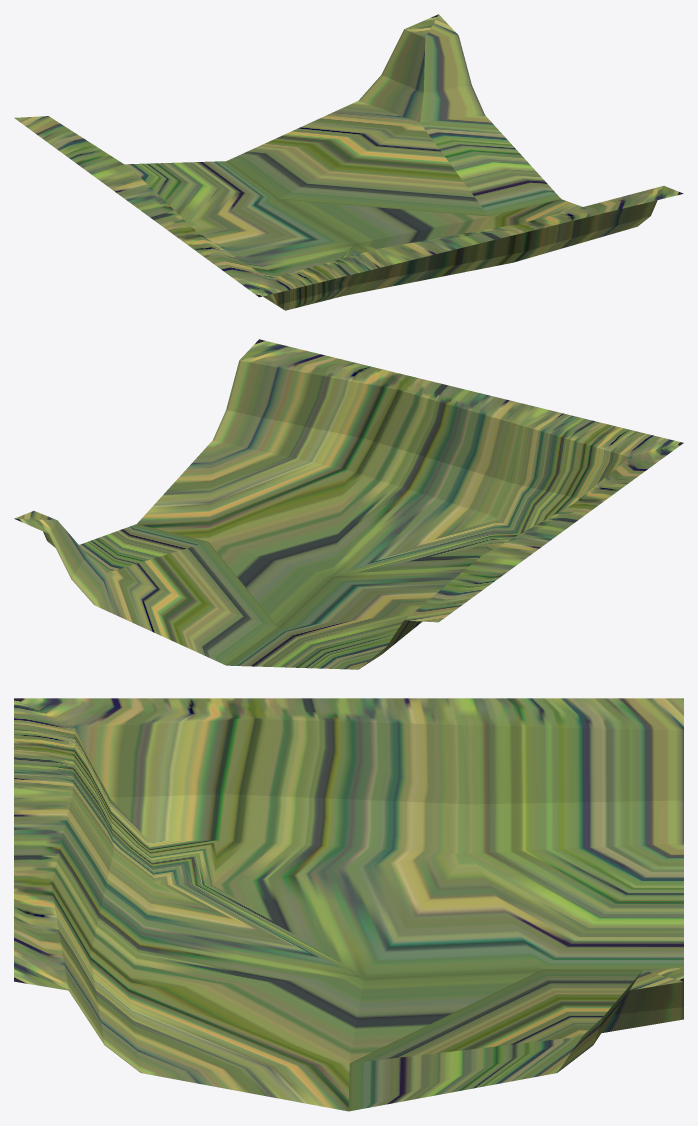
File: Mesh_WaterTileRiverCorner.fbx
3 views of the same model, one above another, from view 1: azimuth 30°, elevation 25°; view 2: azimuth 150°, elevation 25°; view 3: azimuth 270°, elevation 25° (orthographic). The views are drawn at different scales.
Visible parts, largest first — view 1: WaterTileRiverCorner; view 2: WaterTileRiverCorner; view 3: WaterTileRiverCorner.
Part boxes in pixels (box(x1,y1,x2,y2)): WaterTileRiverCorner: box(14, 14, 683, 310); WaterTileRiverCorner: box(14, 339, 683, 669); WaterTileRiverCorner: box(14, 698, 683, 1111).
Size of the model in its own units: 10000 by 2140 by 10000.
